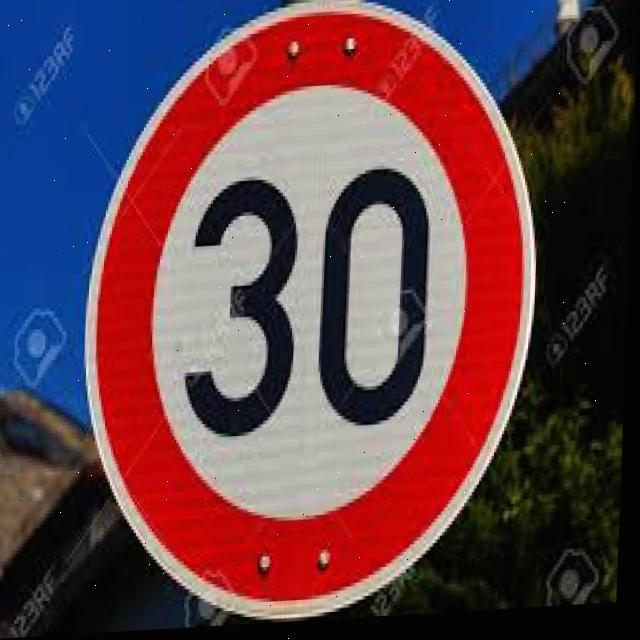Speed limit 30: (75, 1, 550, 633)
